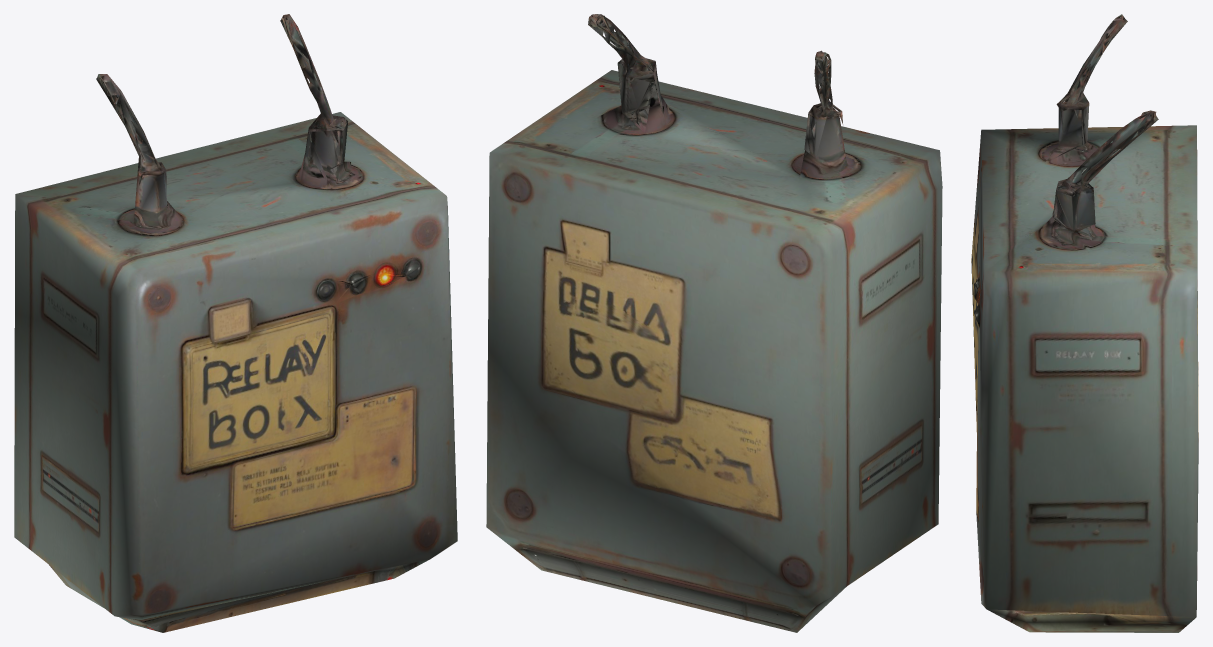
Rendered from Espresso_Dreamer_0408235637_texture.glb.
The picture shows the model from 3 angles, left to right: view 1: azimuth 30°, elevation 25°; view 2: azimuth 150°, elevation 25°; view 3: azimuth 270°, elevation 25°; orthographic projection. The views are drawn at different scales.
Parts seen in each view (by area): view 1: Mesh1; view 2: Mesh1; view 3: Mesh1.
Part boxes in pixels (box(x1,y1,x2,y2)): Mesh1: box(14, 14, 457, 632); Mesh1: box(486, 14, 942, 632); Mesh1: box(971, 14, 1198, 632).
Size of the model in its own units: 1.31 by 1.99 by 0.8083.
Materials: 1 (1 with a texture image).
